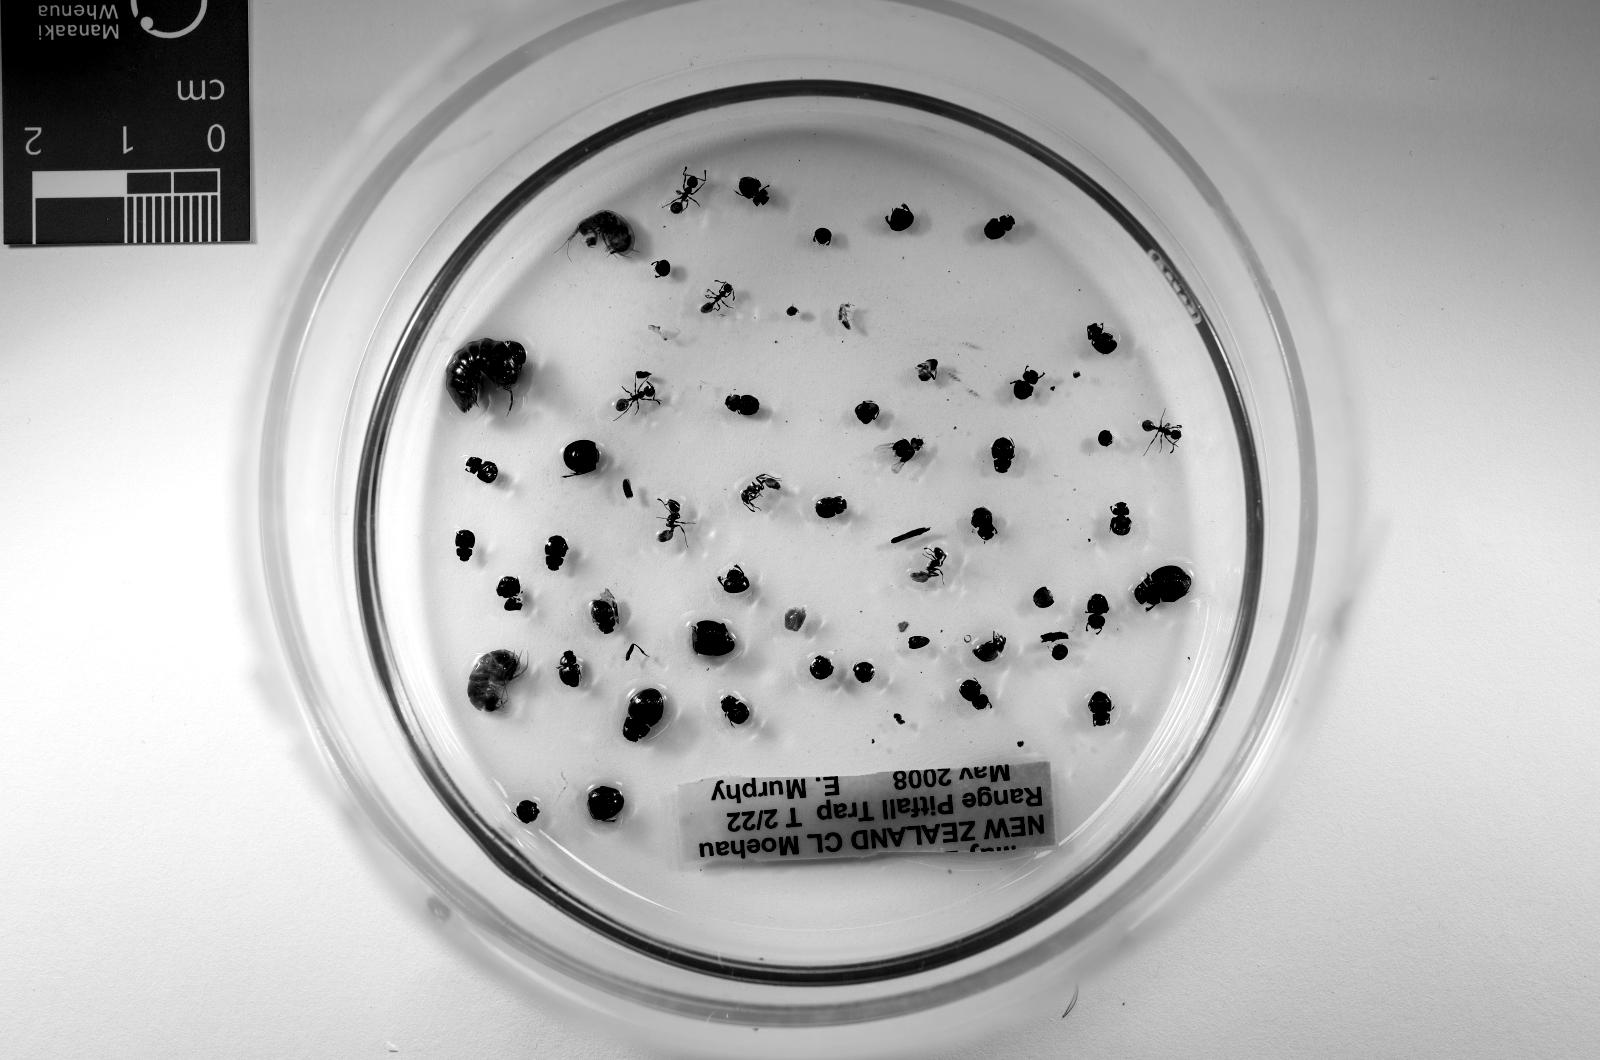amphipoda: (469, 649, 528, 711), (566, 211, 634, 255)
coleoptera: (1134, 565, 1191, 609), (622, 689, 666, 742), (588, 786, 625, 823), (1012, 366, 1041, 401), (959, 680, 991, 711), (1088, 323, 1119, 354), (991, 438, 1016, 475), (544, 534, 569, 571), (972, 634, 1006, 661), (466, 457, 500, 484), (591, 599, 616, 634), (738, 177, 769, 205), (1088, 593, 1109, 634), (972, 506, 997, 540), (891, 438, 925, 463), (1088, 693, 1112, 727), (559, 649, 581, 686), (984, 214, 1016, 239), (722, 696, 750, 724), (1109, 503, 1131, 537), (725, 394, 759, 416), (816, 497, 847, 519), (456, 531, 475, 562)
collembola: (838, 301, 853, 329)
formicidae: (669, 168, 706, 214), (741, 475, 781, 512), (1141, 413, 1181, 450), (909, 547, 947, 584), (616, 382, 659, 413), (656, 500, 684, 543), (700, 279, 734, 314)
isopoda: (444, 338, 516, 413)
